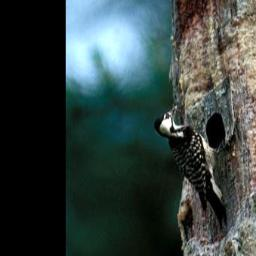Woodpecker: (153, 103, 226, 231)
